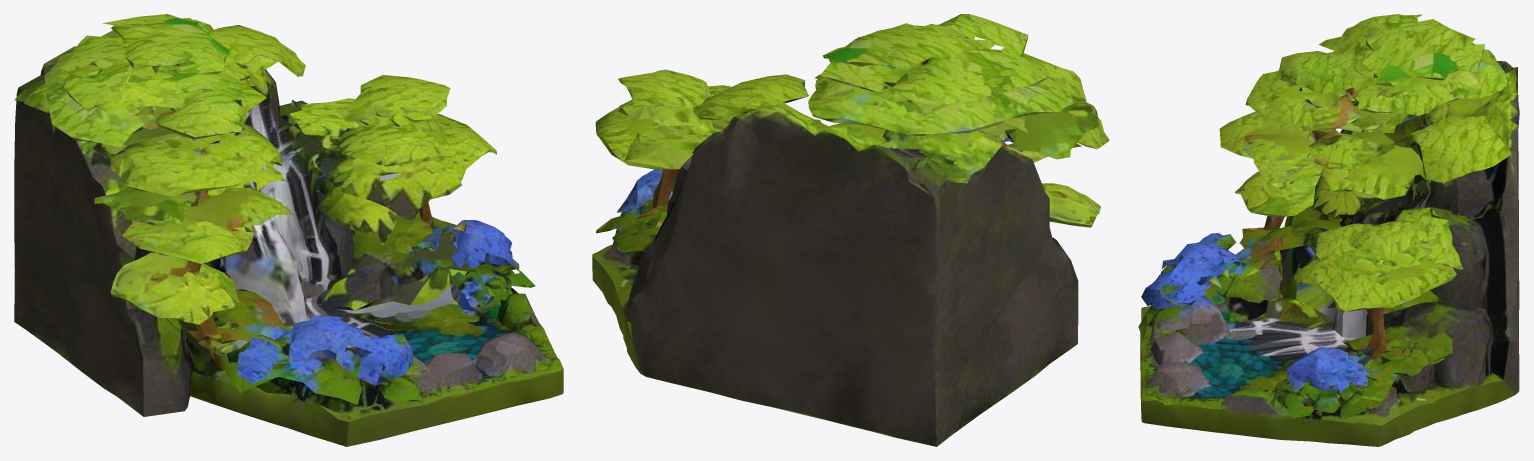
File: shiraito-falls-itoshima.glb
3 renders of one model, left to right at view 1: azimuth 30°, elevation 25°; view 2: azimuth 150°, elevation 25°; view 3: azimuth 270°, elevation 25°, orthographic. The views are drawn at different scales.
Parts seen in each view (by area): view 1: logan-textured.obj; view 2: logan-textured.obj; view 3: logan-textured.obj.
Boxes of the visible parts, x1=… form: logan-textured.obj: x1=14, y1=14, x2=563, y2=446; logan-textured.obj: x1=592, y1=14, x2=1109, y2=446; logan-textured.obj: x1=1138, y1=14, x2=1519, y2=446.
Size of the model in its own units: 1 by 0.6822 by 0.8586.
Materials: 1 (1 with a texture image).
